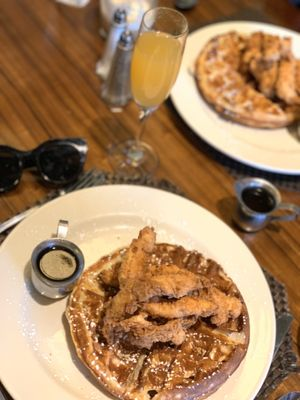pizza: (28, 238, 85, 300), (232, 177, 293, 233)
